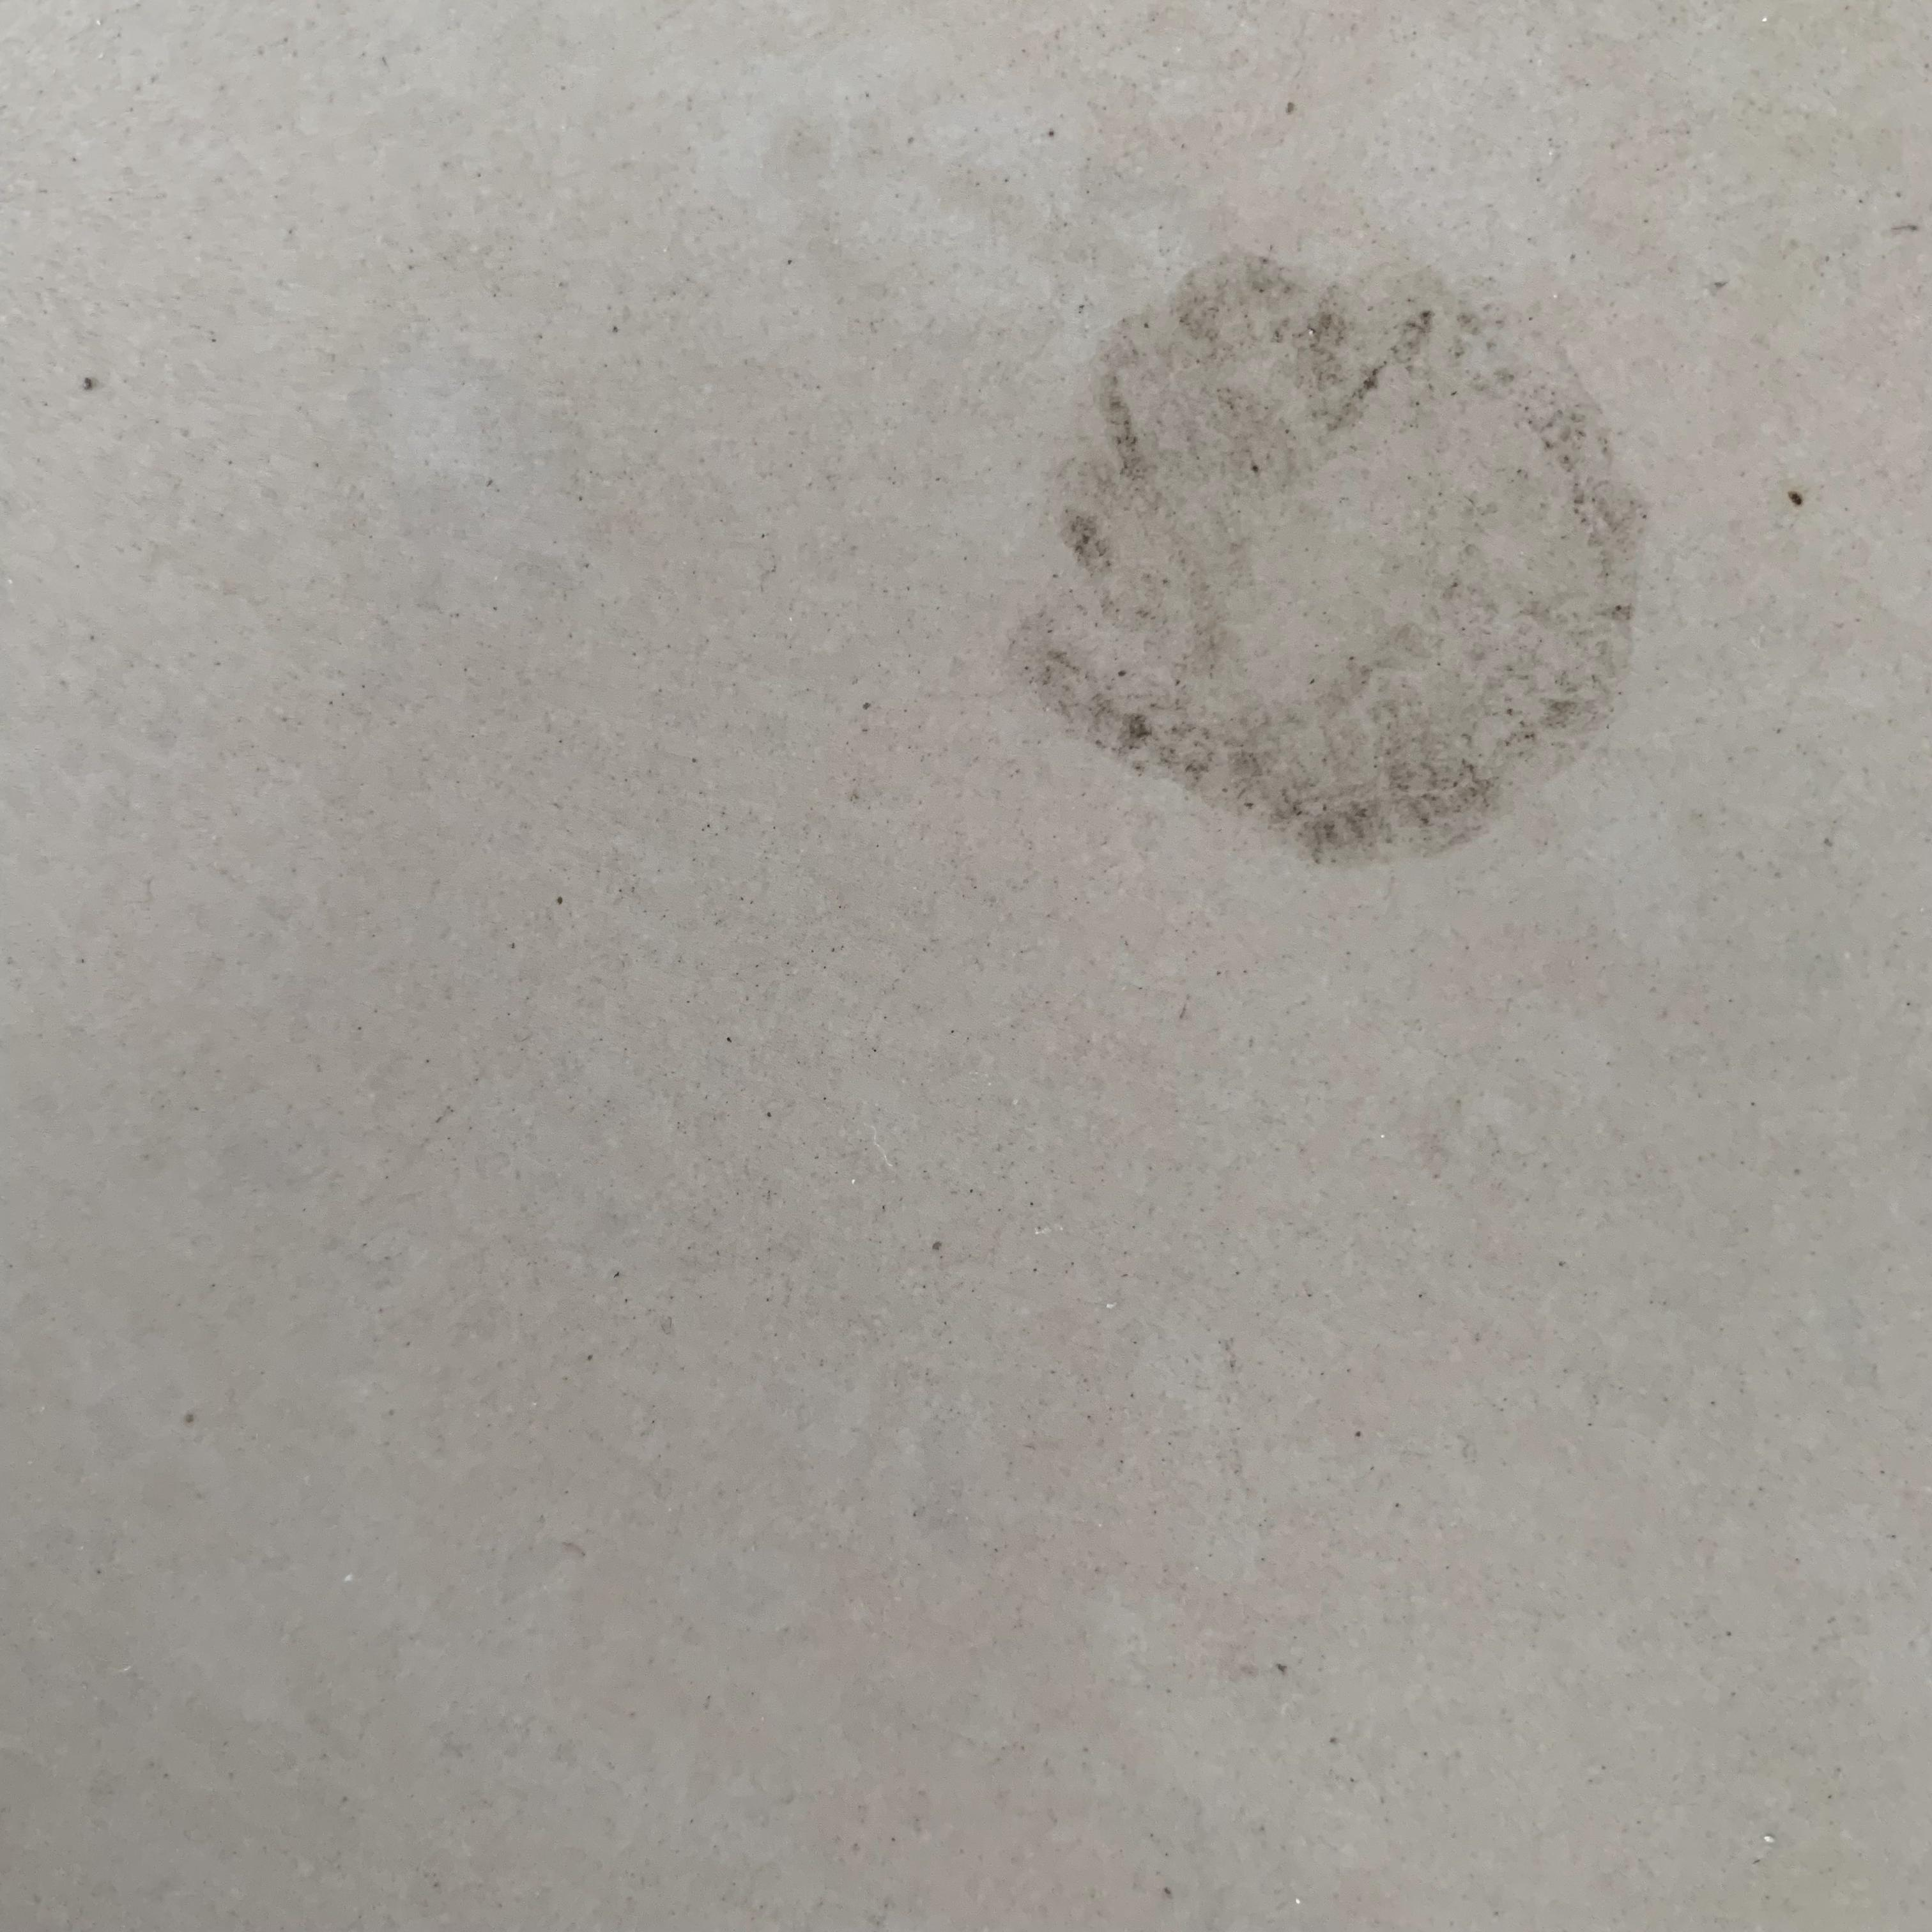grey spot: (994, 248, 1647, 867)
